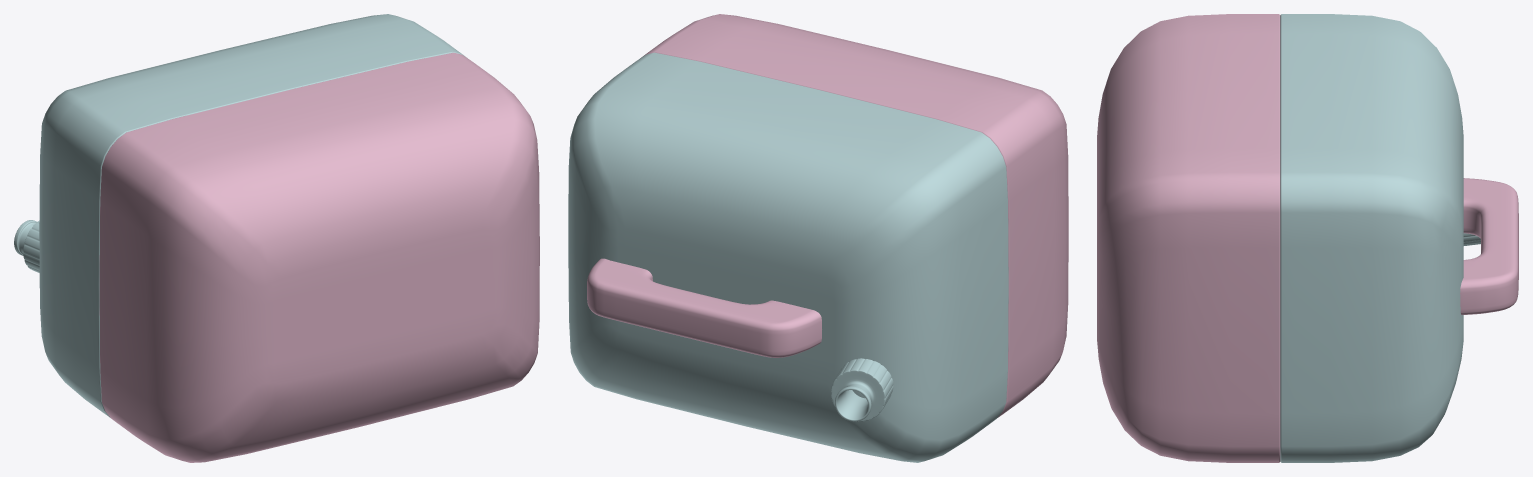
File: 油漆桶(1).fbx
3 views of the same model, side by side, from view 1: azimuth 30°, elevation 25°; view 2: azimuth 150°, elevation 25°; view 3: azimuth 270°, elevation 25° (orthographic).
Parts seen in each view (by area): view 1: youqitong1; view 2: youqitong1; view 3: youqitong1.
Part boxes in pixels (box(x1,y1,x2,y2)): youqitong1: box(14, 14, 539, 462); youqitong1: box(568, 14, 1068, 462); youqitong1: box(1097, 14, 1518, 462).
Bounding box in the file's own units: 11.56 × 8.65 × 11.16.
